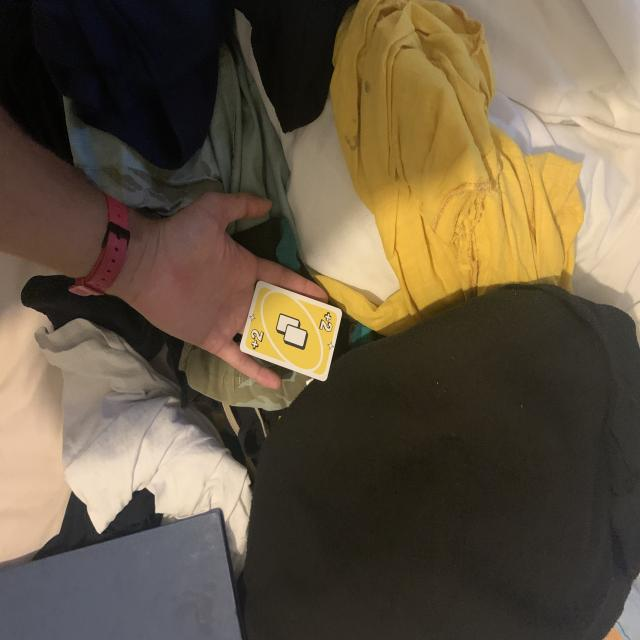lyellow-20: (243, 323, 267, 353)
